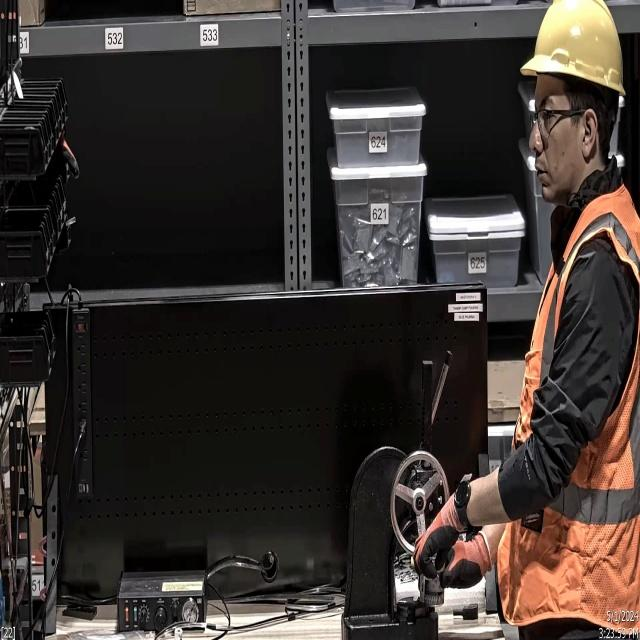construction-gloves: (410, 487, 472, 582)
